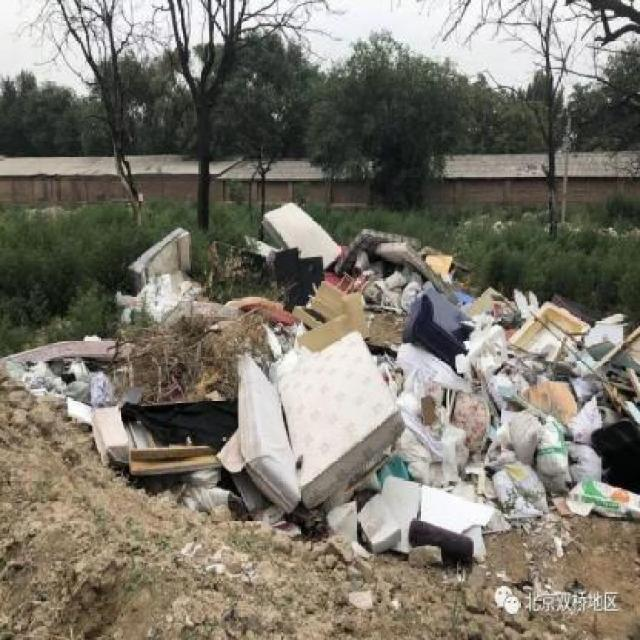garbage: (140, 228, 637, 506), (6, 325, 140, 481), (322, 502, 495, 571)
